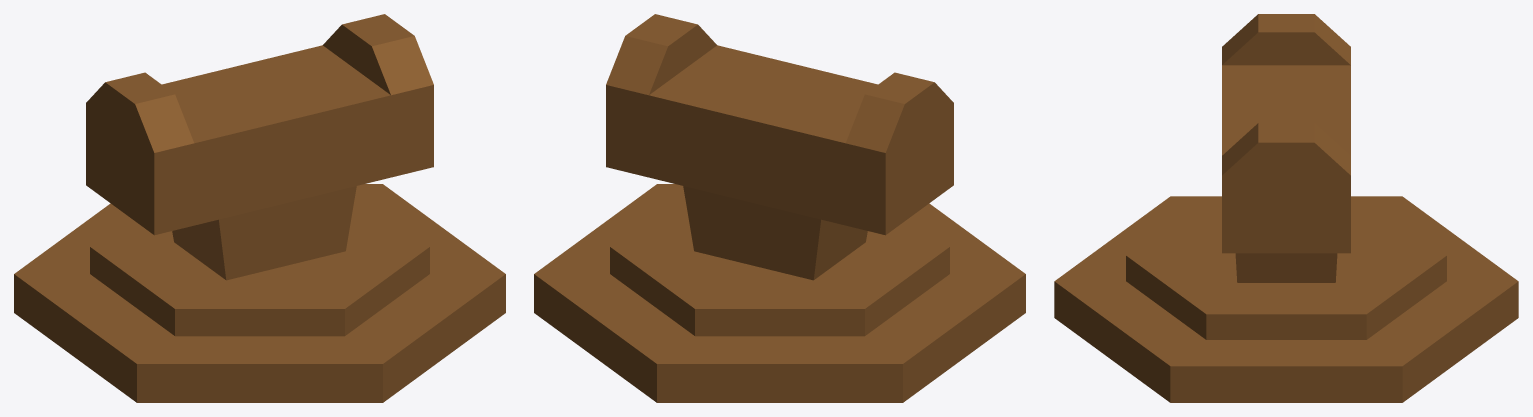
File: BalistaHolderModel1.fbx
3 renders of one model, left to right at view 1: azimuth 30°, elevation 25°; view 2: azimuth 150°, elevation 25°; view 3: azimuth 270°, elevation 25°, orthographic. The views are drawn at different scales.
Parts seen in each view (by area): view 1: Balista Holder 1; view 2: Balista Holder 1; view 3: Balista Holder 1.
Part boxes in pixels (<box>): Balista Holder 1: <box>14,14,505,402</box>; Balista Holder 1: <box>534,14,1025,402</box>; Balista Holder 1: <box>1054,14,1518,402</box>.
Bounding box in the file's own units: 4.36 × 2.87 × 5.03.
